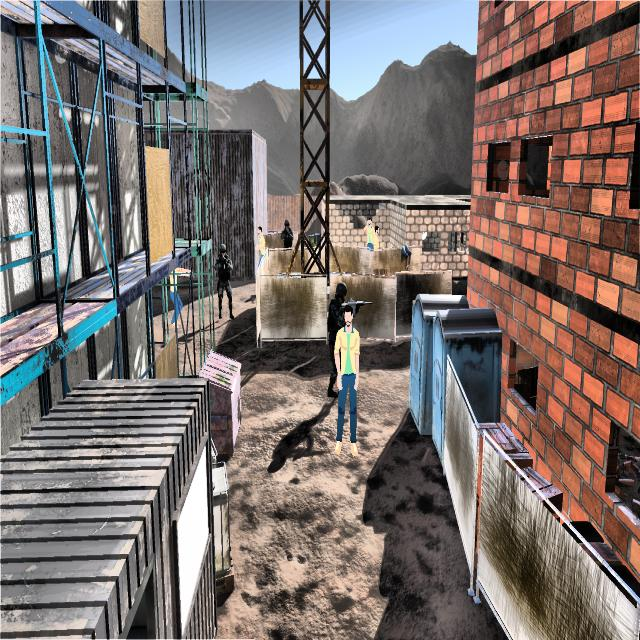bad: (214, 239, 236, 321), (331, 278, 346, 390), (280, 209, 294, 249)
good: (331, 296, 362, 458), (166, 262, 186, 331), (252, 219, 268, 258), (365, 212, 381, 248)
